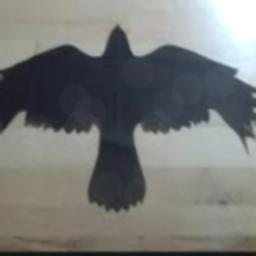Crow: (0, 24, 256, 212)
